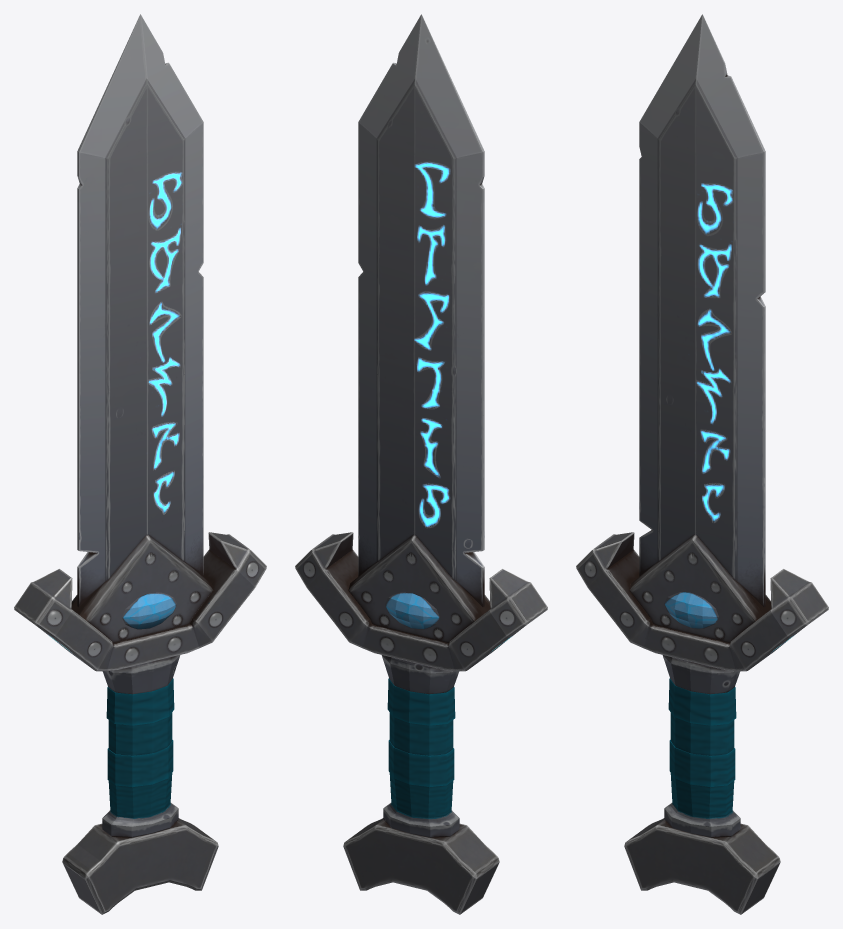
Rendered from Sword2.fbx.
3 renders of one model, left to right at view 1: azimuth 30°, elevation 25°; view 2: azimuth 150°, elevation 25°; view 3: azimuth 330°, elevation 25°, orthographic.
Parts seen in each view (by area): view 1: Sword2; view 2: Sword2; view 3: Sword2.
Boxes of the visible parts, <box> form: Sword2: <box>14,14,266,914</box>; Sword2: <box>295,14,547,914</box>; Sword2: <box>576,14,828,914</box>.
Size of the model in its own units: 51.77 by 188 by 11.44.
